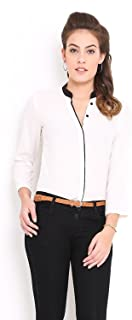shirt: (15, 75, 131, 216)
